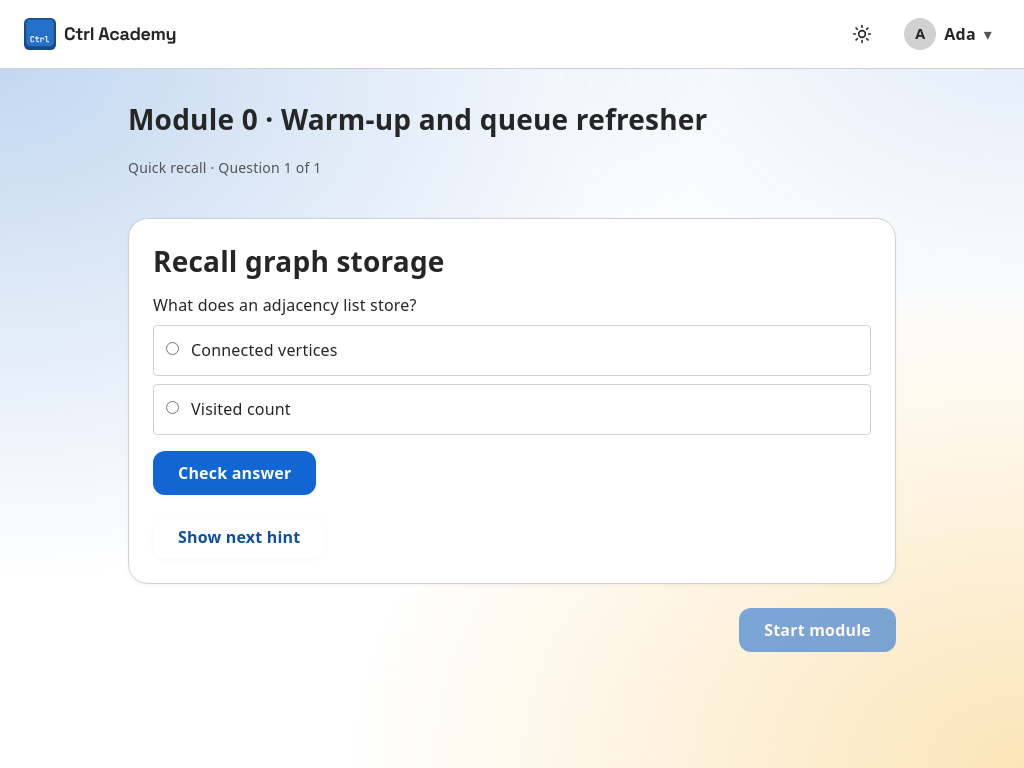
Test case: ModulePage — retrieval › asks the recall questions, with hints, before the first segment
Expected: the text "What does an adjacency list store?" is shown, [153, 293, 417, 318]
Expected: the text "Quick recall · Question 1 of 1" is shown, [128, 158, 322, 177]
Click the radio button labelled "Connected vertices" at (172, 349), box [166, 342, 179, 356]
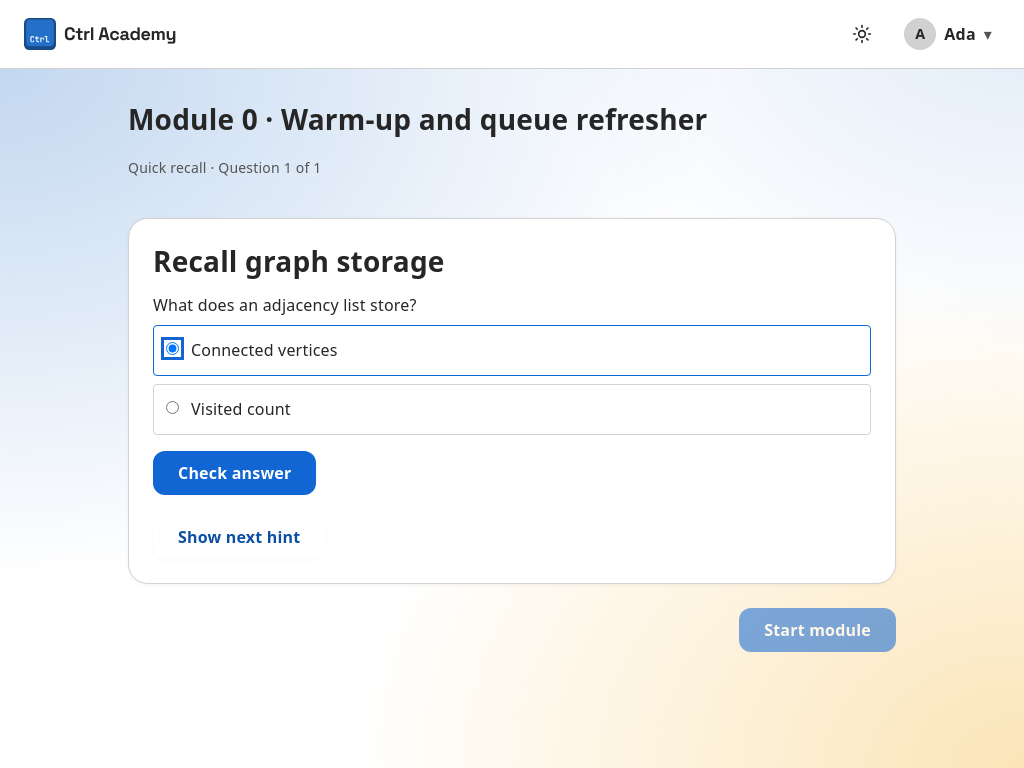
Click the button "Check answer" at (235, 473), box [153, 451, 316, 495]
(page scrolled)
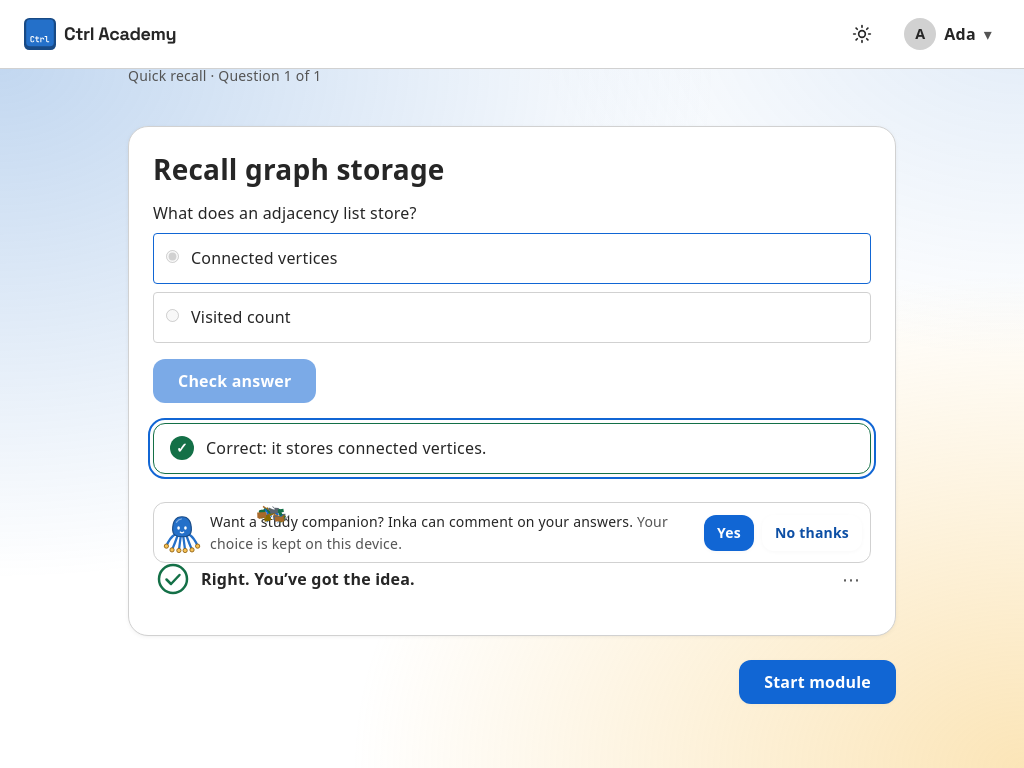
Expected: the text "Correct: it stores connected vertices." is shown, [206, 436, 486, 461]
Click the button "Start module" at (818, 682), box [739, 660, 896, 704]
(page scrolled)
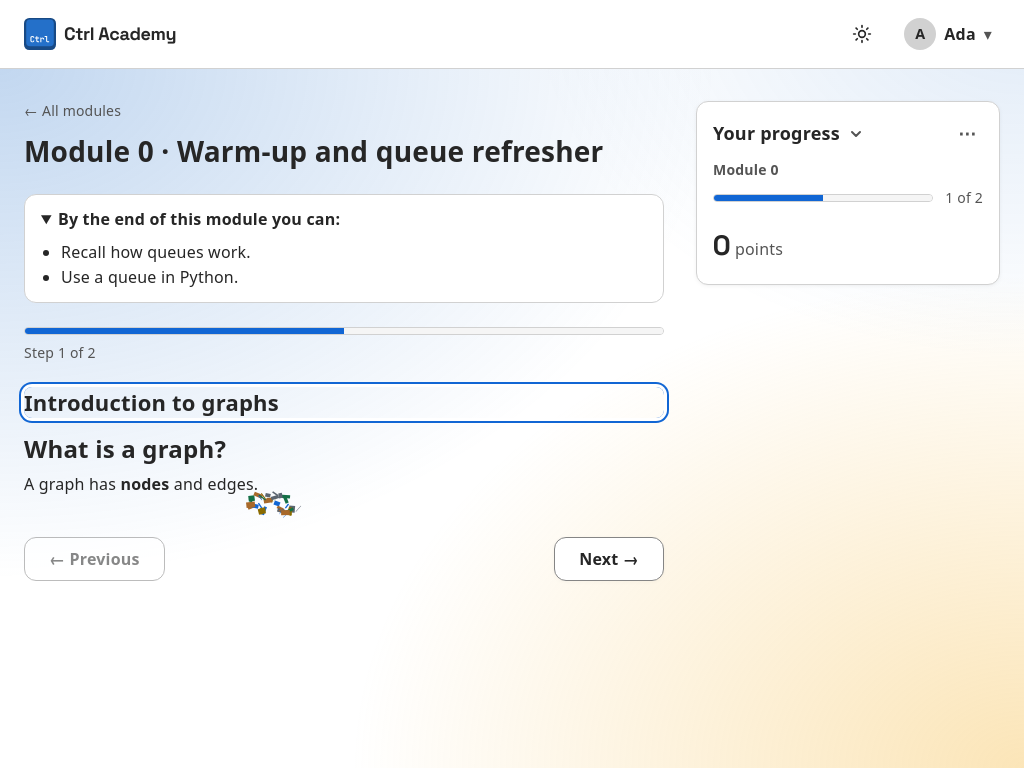
Expected: the heading "Introduction to graphs" is shown, [24, 387, 664, 418]
